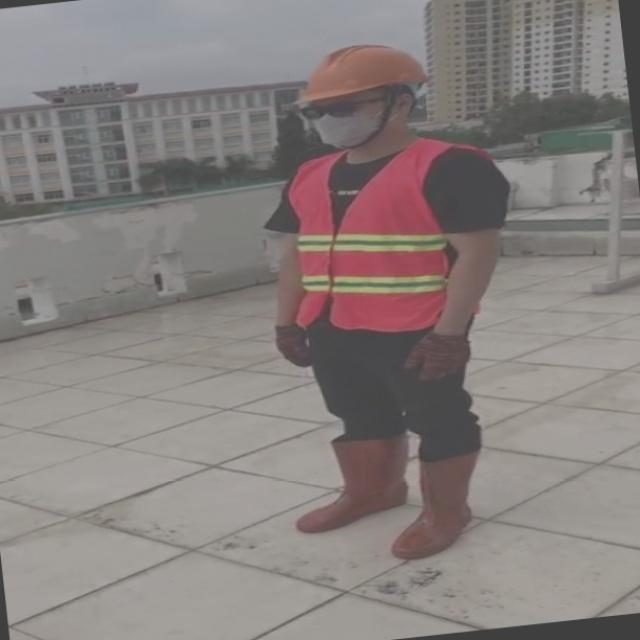Capacete: (299, 45, 428, 103)
Colete: (288, 139, 460, 331)
Oculos: (299, 97, 384, 120)
